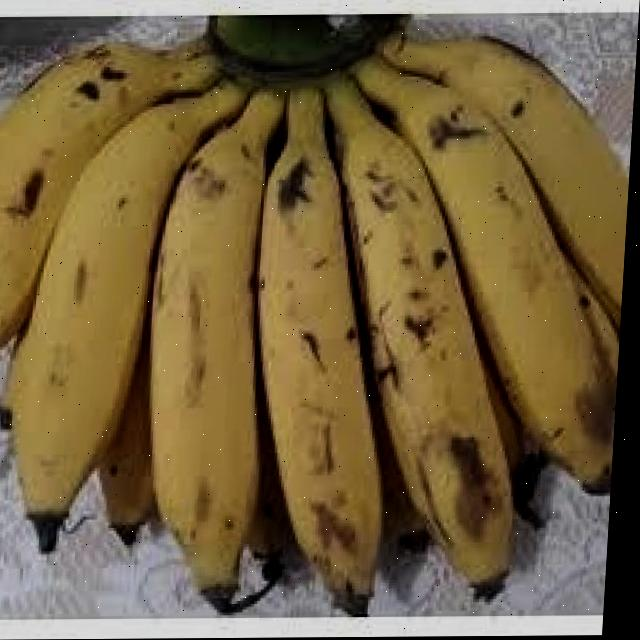banana: (0, 20, 639, 620), (320, 121, 544, 603), (394, 78, 635, 497), (0, 110, 192, 555), (239, 145, 415, 618), (132, 125, 288, 613)
